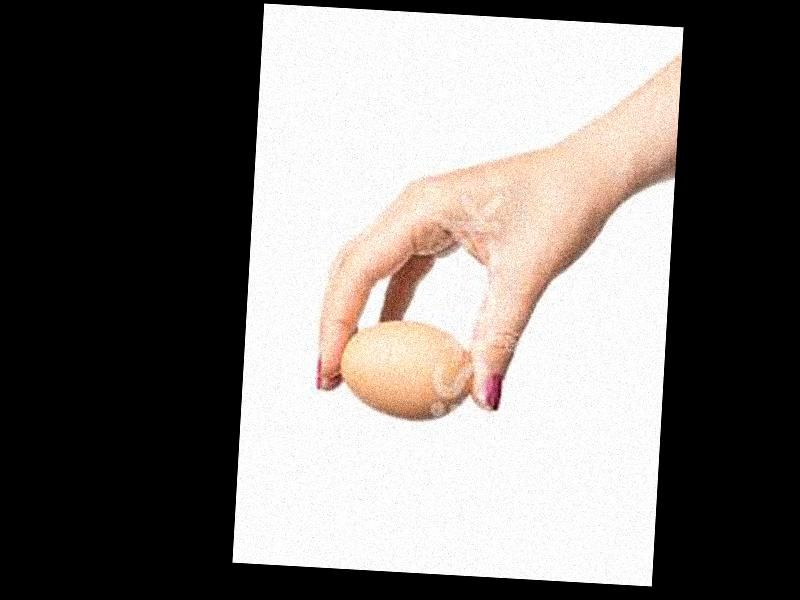Eggs: (338, 319, 477, 419)
